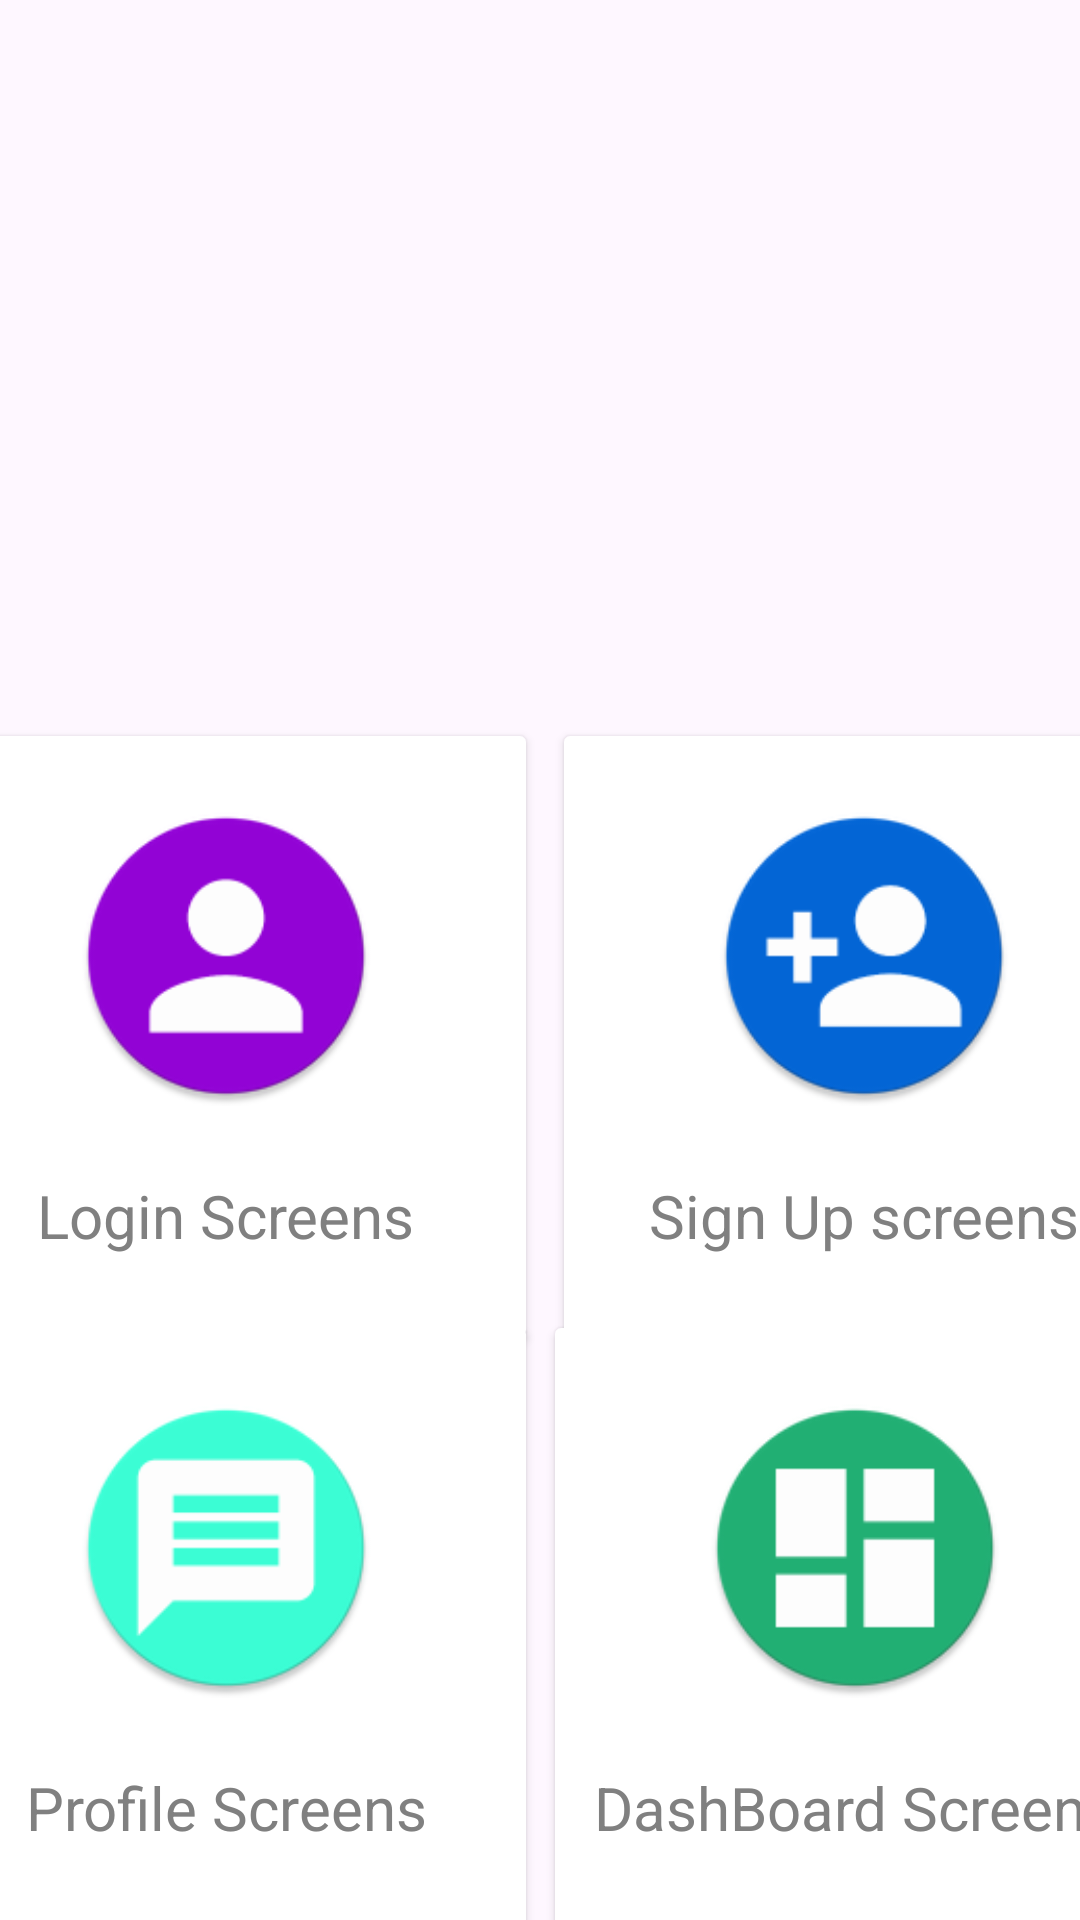

Named icons in this screenshot (1080*1920) and their bounding boxes, (x1, y1, x2, y2):
message: (86, 1409, 366, 1693)
person: (86, 816, 366, 1101)
person add: (724, 816, 1004, 1101)
